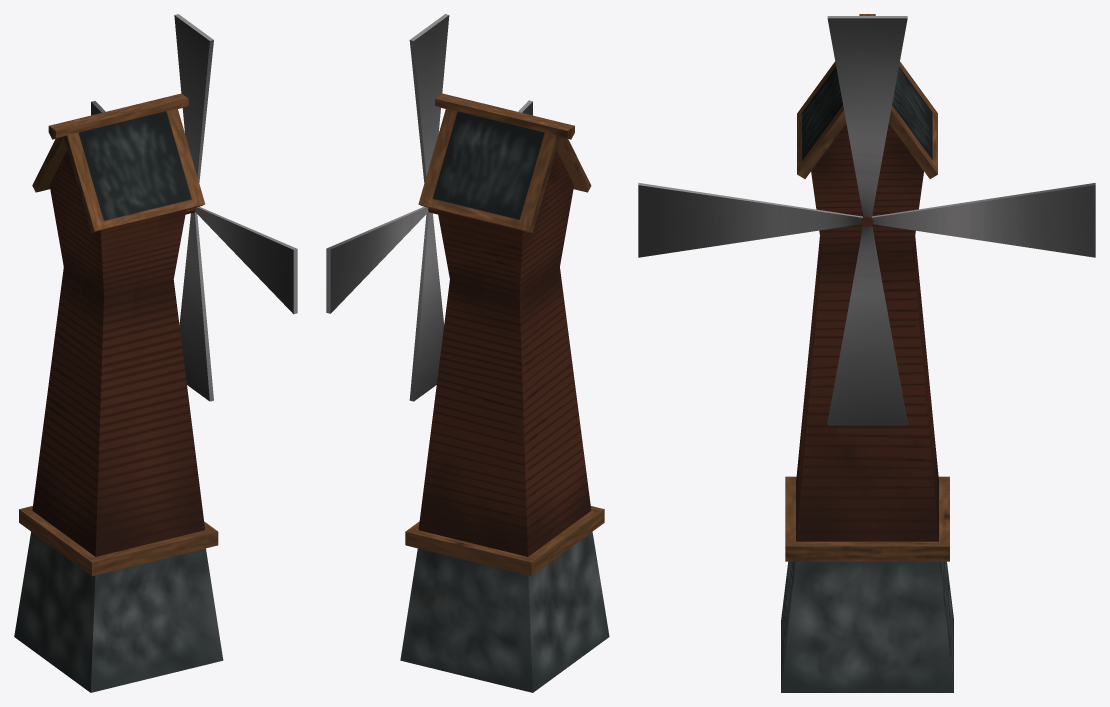
File: windmill.fbx
3 views of the same model, side by side, from view 1: azimuth 30°, elevation 25°; view 2: azimuth 150°, elevation 25°; view 3: azimuth 270°, elevation 25° (orthographic). The views are drawn at different scales.
Parts seen in each view (by area): view 1: Cube, Cube.002; view 2: Cube, Cube.002; view 3: Cube, Cube.002.
Part boxes in pixels (x1,y1,x2,y2): Cube: [14, 93, 223, 692]; Cube.002: [91, 14, 297, 401]; Cube: [400, 93, 609, 692]; Cube.002: [326, 14, 532, 401]; Cube: [781, 14, 953, 692]; Cube.002: [638, 16, 1095, 425].
Size of the model in its own units: 530 by 2102 by 1280.
